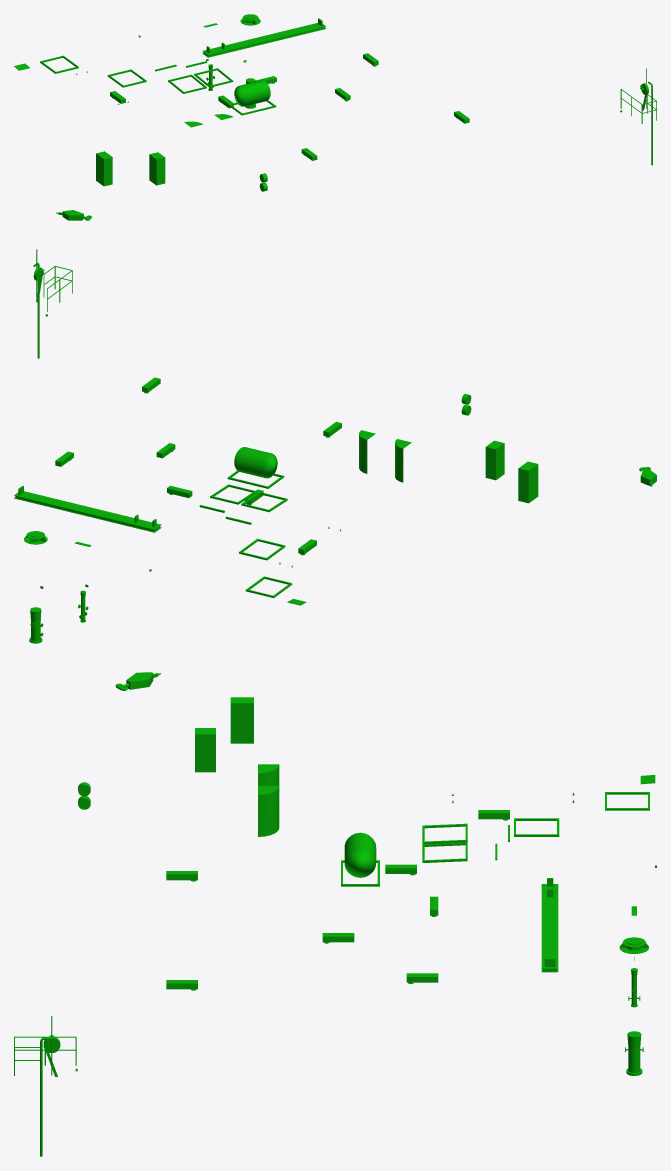
Rendered from HULDRA-HC-MECH.gltf.
3 views of the same model, one above another, from view 1: azimuth 30°, elevation 25°; view 2: azimuth 150°, elevation 25°; view 3: azimuth 270°, elevation 25° (orthographic). The views are drawn at different scales.
Visible parts, largest first — view 1: BOX_3_of_SUBEQUIPMENT_/PIG-HANDLING-RIG-PRIM_Mesh.30598, BOX_1_of_SUBEQUIPMENT_/CLEANING-GEAR-LOCKER-W/D-PRIM_Mesh.30, CYLINDER_1_of_SUBEQUIPMENT_/56-VS50/DRUM_Mesh.30665, BOX_1_of_SUBEQUIPMENT_/CHEMICAL-HANDLING-LOCKER-W/D-PRIM_Mes; view 2: BOX_3_of_SUBEQUIPMENT_/PIG-HANDLING-RIG-PRIM_Mesh.30598, BOX_1_of_SUBEQUIPMENT_/CLEANING-GEAR-LOCKER-W/D-PRIM_Mesh.30, CYLINDER_1_of_SUBEQUIPMENT_/56-VS50/DRUM_Mesh.30665, BOX_1_of_SUBEQUIPMENT_/CHEMICAL-HANDLING-LOCKER-W/D-PRIM_Mes; view 3: BOX_3_of_SUBEQUIPMENT_/PIG-HANDLING-RIG-PRIM_Mesh.30598, BOX_1_of_SUBEQUIPMENT_/CLEANING-GEAR-LOCKER-W/D-PRIM_Mesh.30, RTORUS_1_of_SUBEQUIPMENT_/LAGERKONTEINER_Mesh.30677, BOX_1_of_SUBEQUIPMENT_/CHEMICAL-HANDLING-LOCKER-W/D-PRIM_Mes, DISH_2_of_SUBEQUIPMENT_/56-VS50/DRUM_Mesh.30667.
Part boxes in pixels (left/top/right/bottom): BOX_3_of_SUBEQUIPMENT_/PIG-HANDLING-RIG-PRIM_Mesh.30598: left=202, top=23, right=325, bottom=55; BOX_1_of_SUBEQUIPMENT_/CLEANING-GEAR-LOCKER-W/D-PRIM_Mesh.30: left=96, top=151, right=112, bottom=186; CYLINDER_1_of_SUBEQUIPMENT_/56-VS50/DRUM_Mesh.30665: left=240, top=80, right=268, bottom=106; BOX_1_of_SUBEQUIPMENT_/CHEMICAL-HANDLING-LOCKER-W/D-PRIM_Mes: left=149, top=152, right=165, bottom=185; BOX_3_of_SUBEQUIPMENT_/PIG-HANDLING-RIG-PRIM_Mesh.30598: left=14, top=491, right=161, bottom=529; BOX_1_of_SUBEQUIPMENT_/CLEANING-GEAR-LOCKER-W/D-PRIM_Mesh.30: left=518, top=461, right=538, bottom=503; CYLINDER_1_of_SUBEQUIPMENT_/56-VS50/DRUM_Mesh.30665: left=236, top=447, right=271, bottom=477; BOX_1_of_SUBEQUIPMENT_/CHEMICAL-HANDLING-LOCKER-W/D-PRIM_Mes: left=485, top=440, right=504, bottom=480; BOX_3_of_SUBEQUIPMENT_/PIG-HANDLING-RIG-PRIM_Mesh.30598: left=541, top=884, right=558, bottom=968; BOX_1_of_SUBEQUIPMENT_/CLEANING-GEAR-LOCKER-W/D-PRIM_Mesh.30: left=230, top=697, right=253, bottom=743; RTORUS_1_of_SUBEQUIPMENT_/LAGERKONTEINER_Mesh.30677: left=258, top=786, right=279, bottom=836; BOX_1_of_SUBEQUIPMENT_/CHEMICAL-HANDLING-LOCKER-W/D-PRIM_Mes: left=195, top=728, right=215, bottom=772; DISH_2_of_SUBEQUIPMENT_/56-VS50/DRUM_Mesh.30667: left=344, top=849, right=375, bottom=877.
Size of the model in its own units: 44.75 by 10.37 by 30.51.
